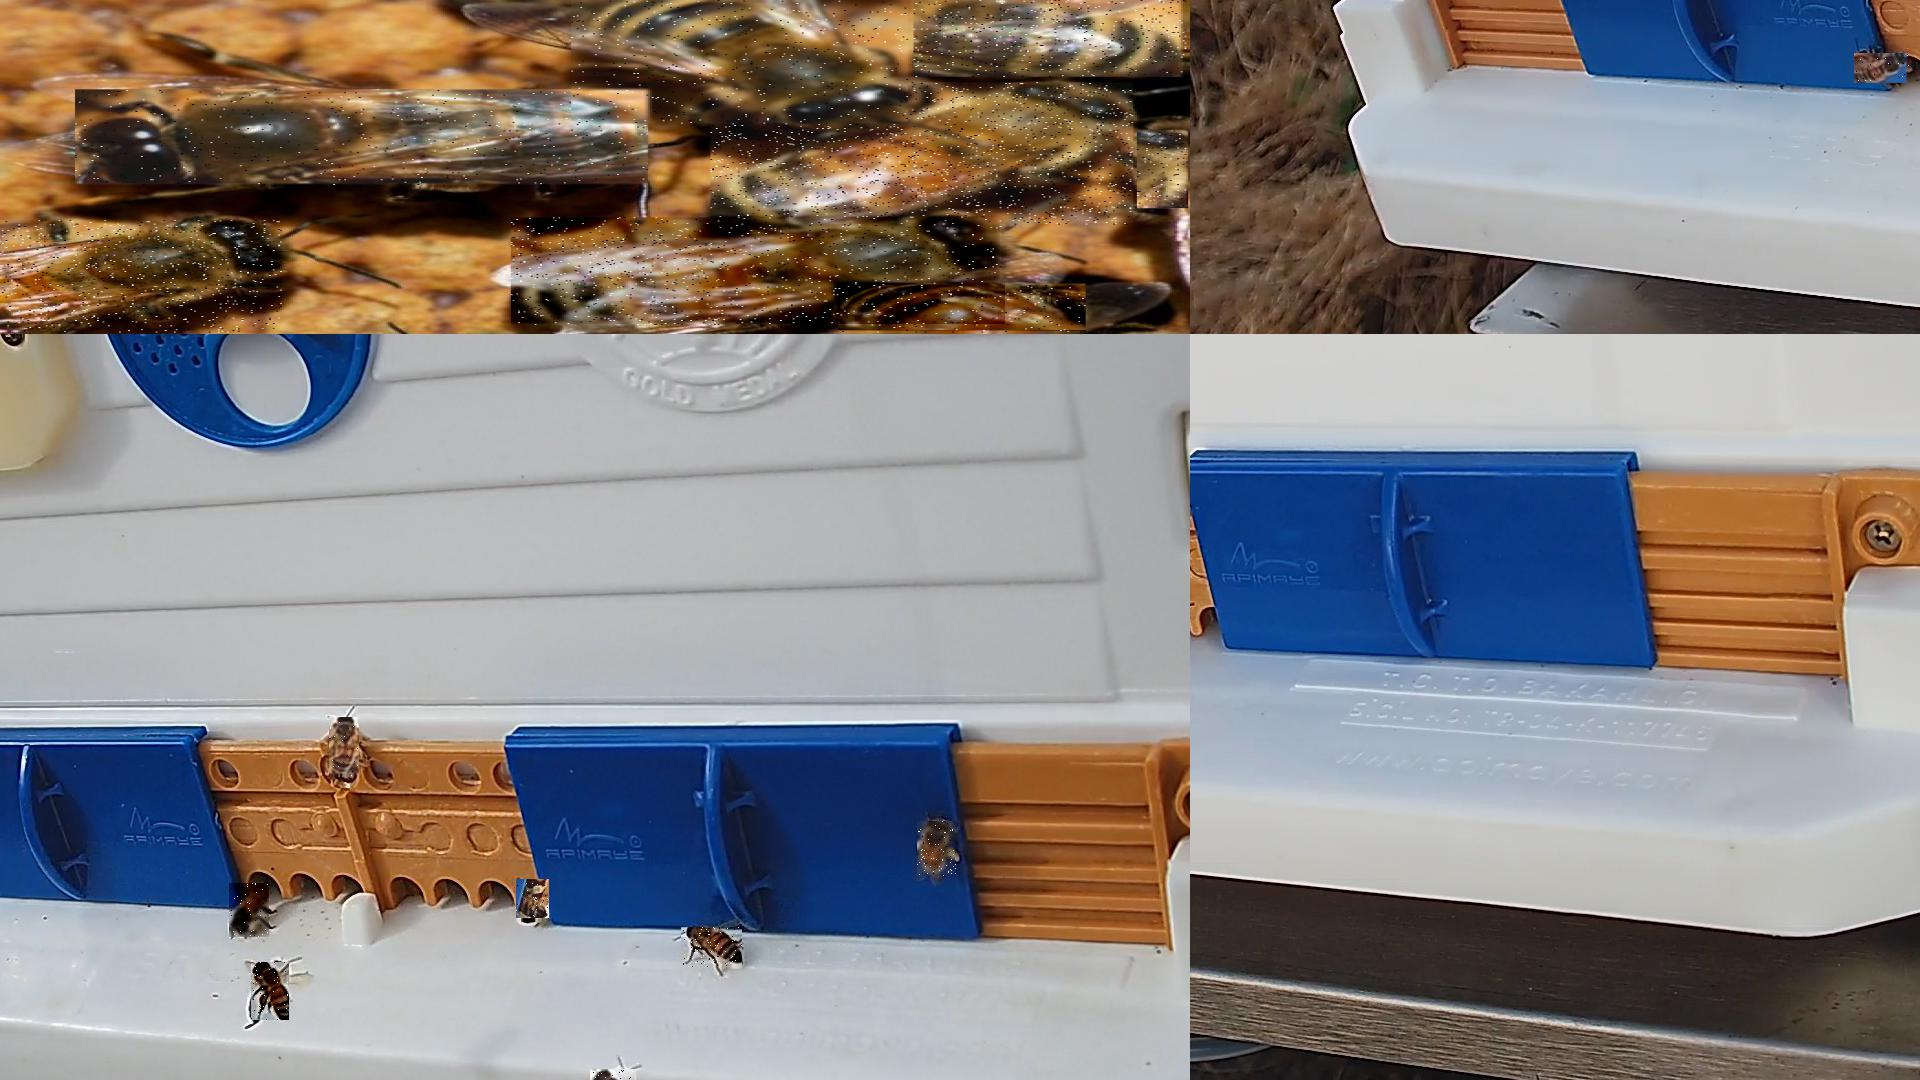bee: (711, 83, 1135, 226), (512, 218, 1005, 326), (571, 0, 910, 125), (0, 220, 284, 333), (915, 0, 1190, 78), (839, 284, 1088, 334), (1137, 130, 1188, 210), (681, 928, 743, 969), (229, 883, 270, 938), (329, 718, 360, 778), (1855, 53, 1911, 84)
drone: (75, 90, 650, 187)
pollenbee: (251, 962, 290, 1021), (918, 822, 958, 878), (516, 880, 550, 923)
